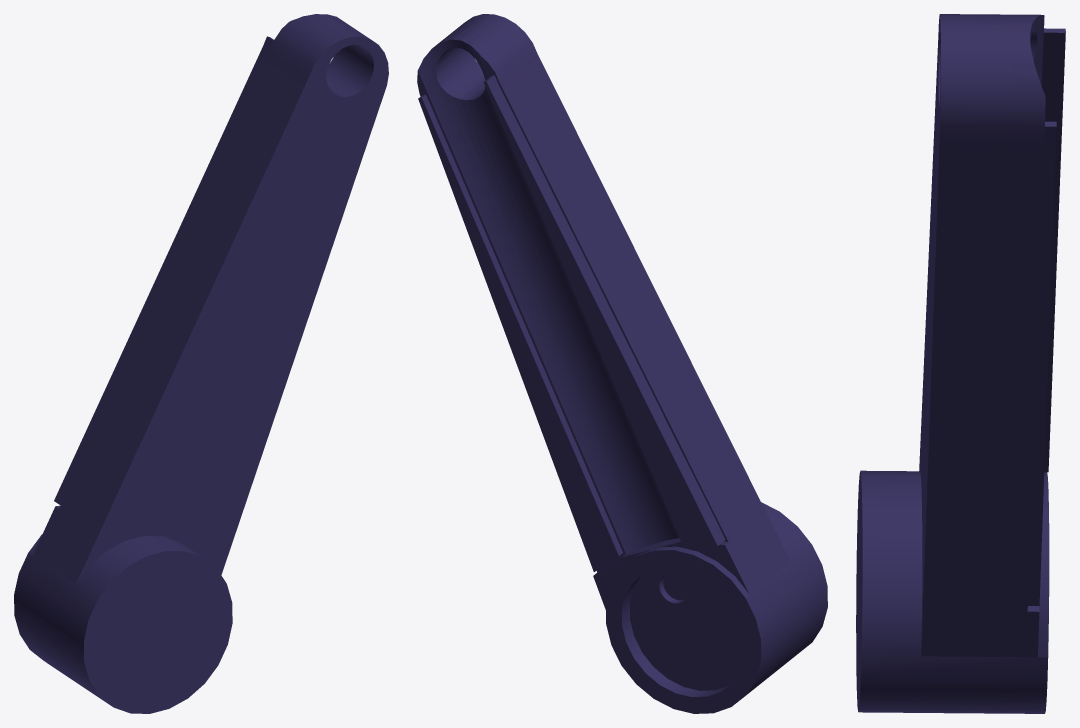
The model's file is Base_Pedal_Izq.obj.
3 renders of one model, left to right at view 1: azimuth 30°, elevation 25°; view 2: azimuth 150°, elevation 25°; view 3: azimuth 270°, elevation 25°, orthographic. The views are drawn at different scales.
Visible parts, largest first — view 1: Component_27_003; view 2: Component_27_003; view 3: Component_27_003.
Boxes of the visible parts, bbox=[...] form: Component_27_003: bbox=[14, 14, 388, 713]; Component_27_003: bbox=[417, 14, 827, 713]; Component_27_003: bbox=[856, 14, 1065, 713].
Bounding box in the file's own units: 3.74 × 6.35 × 1.45.
1 material, 1 textured.
